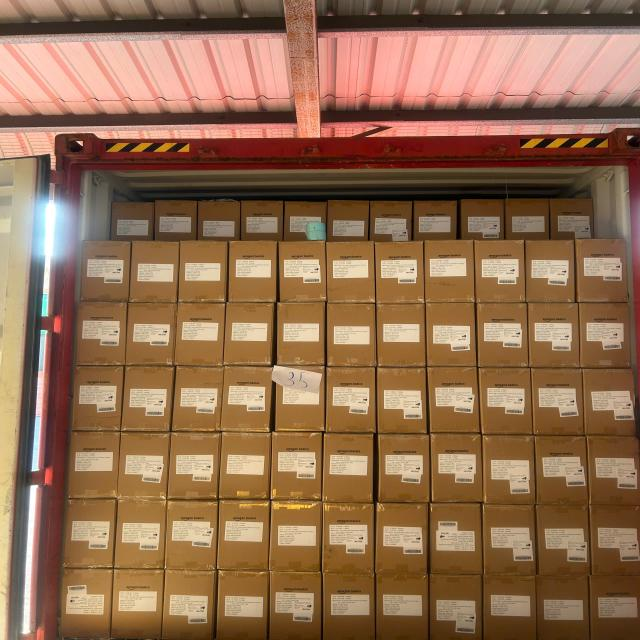Carton: (537, 503, 591, 577), (431, 505, 485, 579), (584, 367, 640, 438), (374, 501, 426, 576), (484, 502, 536, 577), (588, 435, 640, 509), (324, 506, 377, 578), (430, 435, 483, 506), (379, 434, 432, 505), (482, 435, 534, 507), (589, 507, 640, 580), (537, 436, 590, 506), (480, 364, 533, 434), (215, 568, 268, 638), (217, 502, 269, 573), (114, 566, 165, 638), (325, 433, 376, 505), (268, 504, 319, 576), (61, 566, 112, 638), (270, 568, 323, 637), (426, 364, 479, 433), (169, 432, 221, 502), (217, 432, 269, 502), (535, 367, 586, 438), (272, 434, 323, 504), (167, 567, 218, 637), (428, 573, 481, 640), (530, 304, 582, 372), (582, 302, 633, 371), (538, 573, 592, 638), (120, 432, 170, 502), (117, 500, 167, 570), (68, 432, 118, 502), (379, 366, 429, 436), (326, 367, 376, 437), (484, 572, 537, 638), (575, 240, 628, 306), (274, 363, 326, 430), (325, 570, 377, 637), (66, 498, 114, 570), (222, 366, 272, 435), (168, 503, 218, 572), (478, 304, 530, 370), (124, 363, 174, 431), (328, 302, 378, 370), (374, 573, 427, 637), (176, 366, 225, 435), (426, 302, 476, 369), (425, 241, 476, 306), (528, 240, 578, 305), (476, 240, 526, 305), (588, 572, 637, 638), (178, 304, 227, 370), (74, 366, 123, 432), (376, 302, 425, 368), (128, 302, 176, 369), (224, 304, 273, 369), (328, 241, 377, 306), (77, 302, 125, 368), (276, 300, 324, 366), (377, 242, 426, 306), (227, 242, 276, 306), (83, 241, 132, 305), (128, 241, 176, 305), (279, 241, 327, 305), (179, 240, 227, 304)
